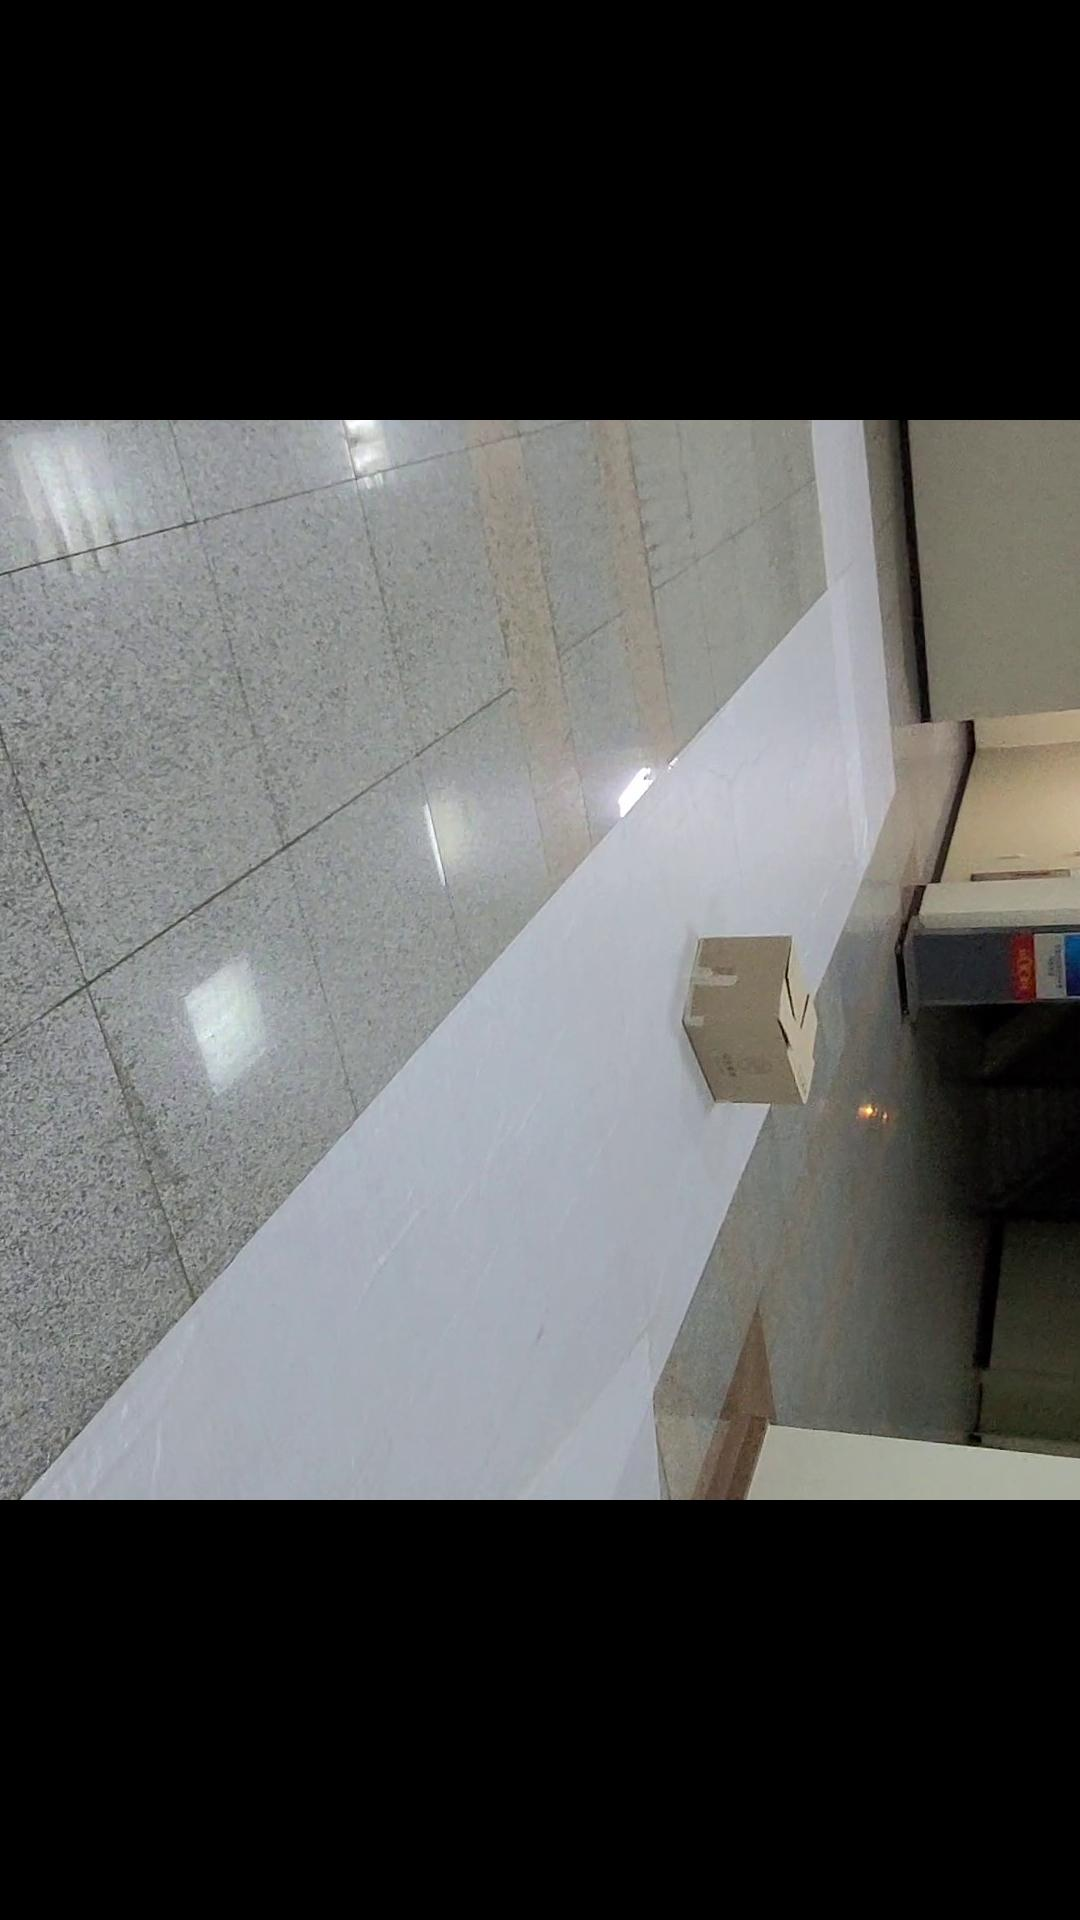Box: (670, 913, 835, 1120)
